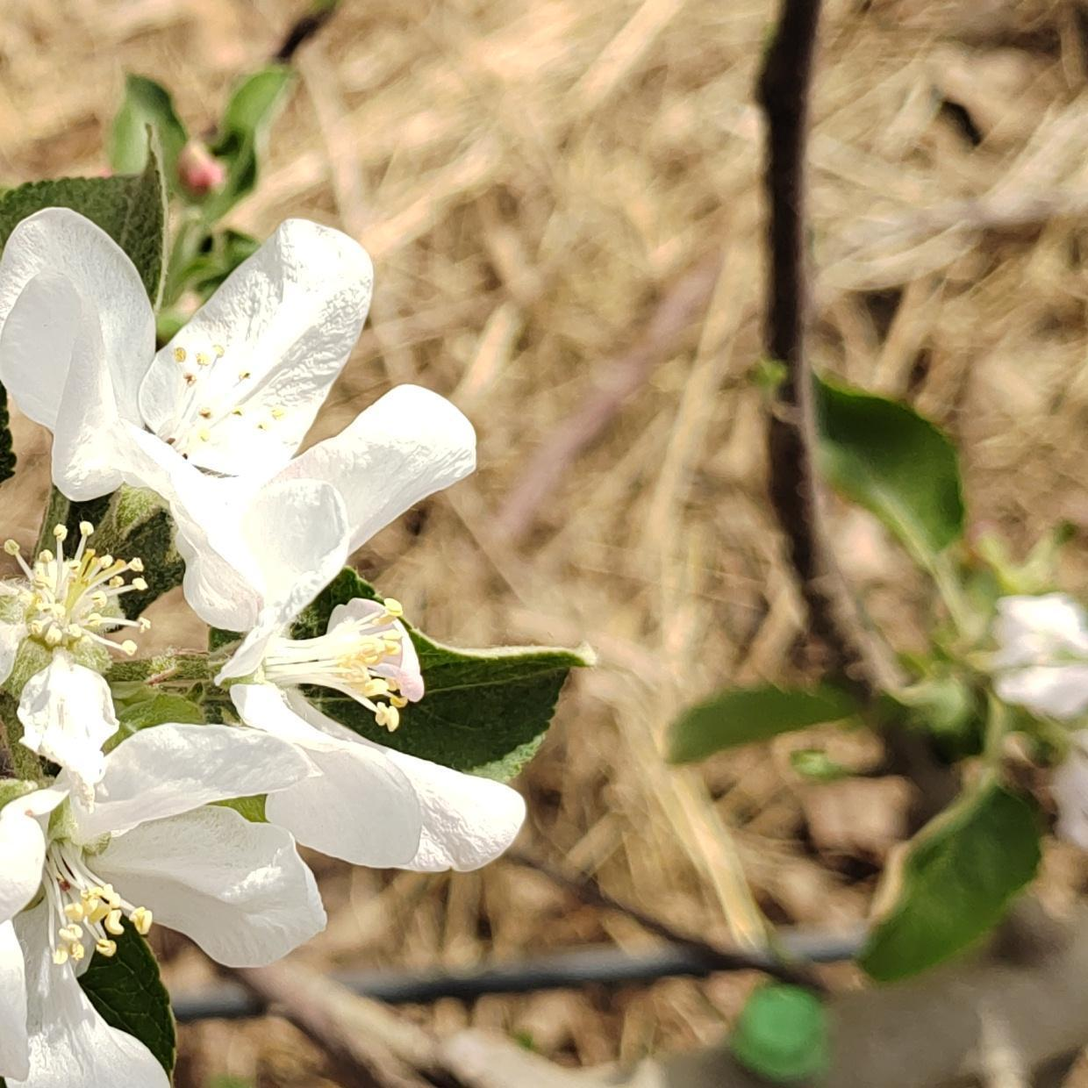apple_flower: (0, 204, 526, 1088), (999, 593, 1088, 842)
